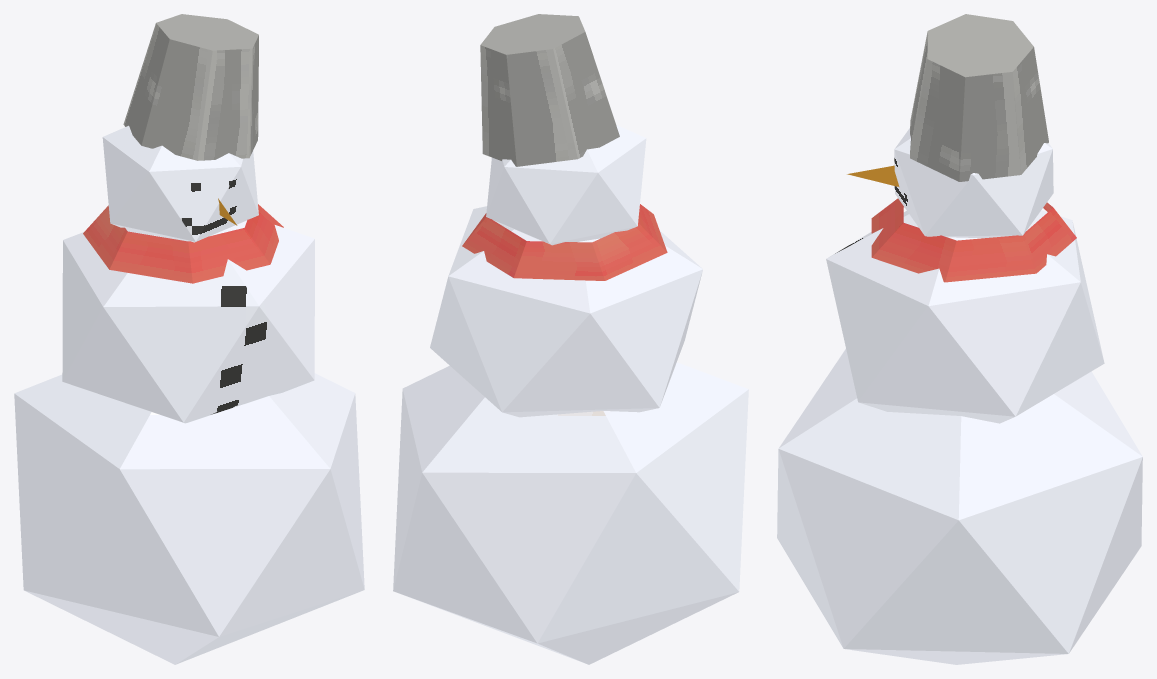
Rendered from snowman.glb.
3 views of the same model, side by side, from view 1: azimuth 30°, elevation 25°; view 2: azimuth 150°, elevation 25°; view 3: azimuth 270°, elevation 25° (orthographic). The views are drawn at different scales.
Visible parts, largest first — view 1: Cylinder; view 2: Cylinder; view 3: Cylinder.
Boxes of the visible parts, box(x1,y1,x2,y2) form: Cylinder: box(14, 14, 364, 664); Cylinder: box(393, 14, 748, 664); Cylinder: box(777, 14, 1142, 664).
Size of the model in its own units: 1.86 by 3.35 by 1.71.
Materials: 1 (1 with a texture image).
